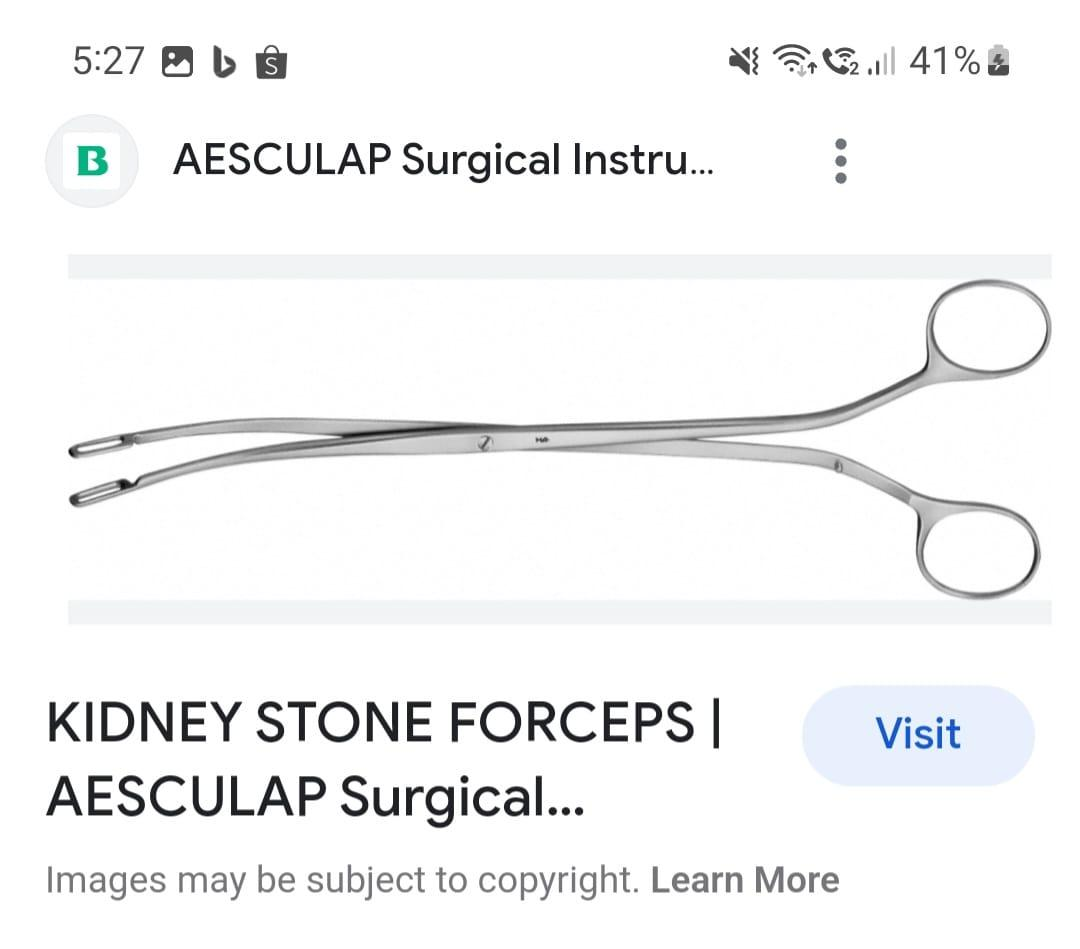Desjardin Forceps: (69, 273, 1056, 597)
